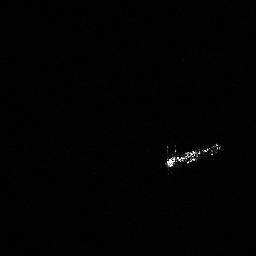ship: (162, 139, 223, 178)
